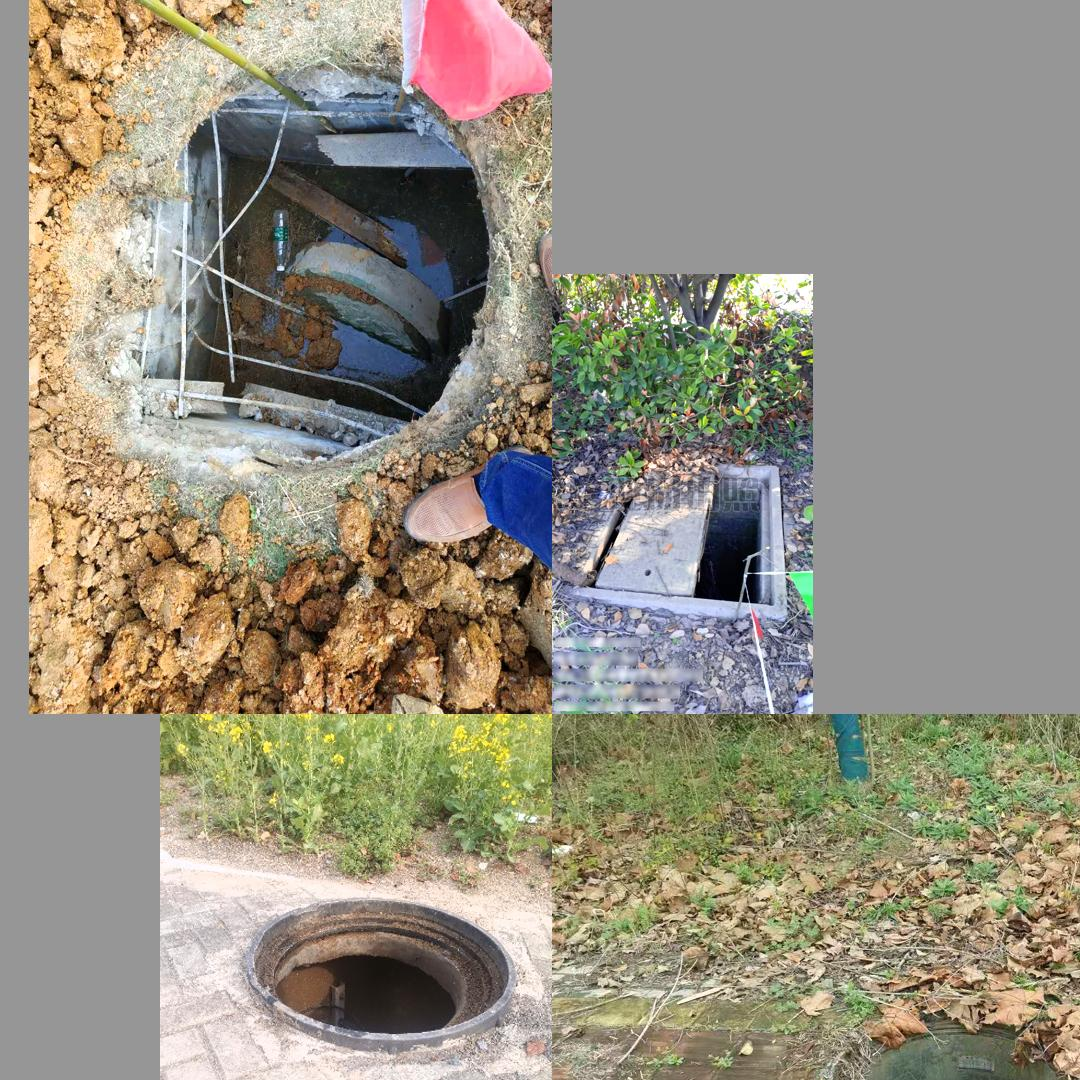lose: (64, 53, 509, 471), (245, 895, 514, 1049), (554, 455, 788, 620), (822, 1014, 1080, 1080)
